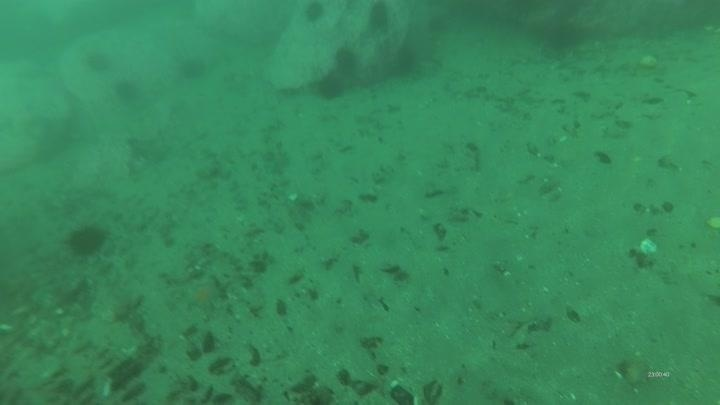echinus: (65, 222, 109, 259), (314, 72, 347, 103), (331, 44, 362, 76), (176, 53, 209, 82), (365, 1, 394, 33), (82, 48, 114, 76), (112, 77, 142, 104), (300, 1, 328, 26)
starfish: (182, 275, 224, 313)
